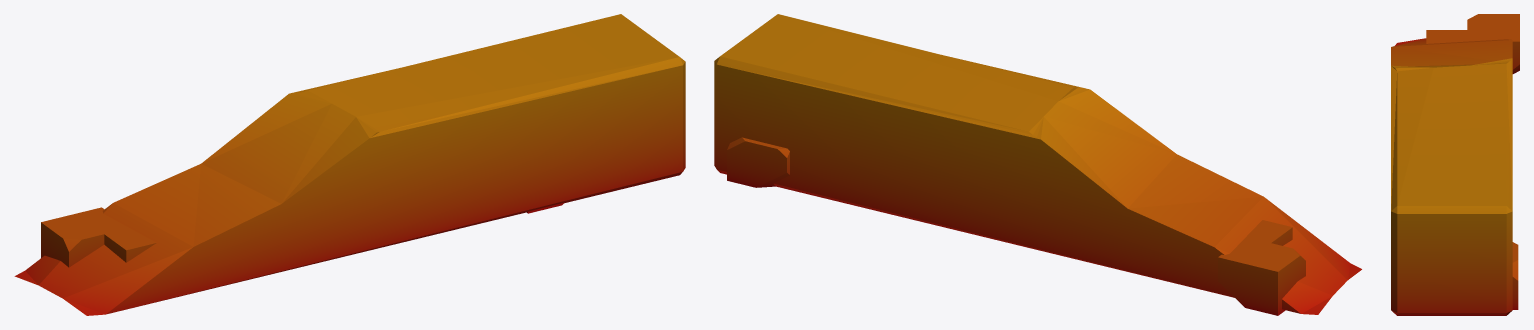
File: lintel_broken.glb
The picture shows the model from 3 angles, left to right: view 1: azimuth 30°, elevation 25°; view 2: azimuth 150°, elevation 25°; view 3: azimuth 270°, elevation 25°; orthographic projection. The views are drawn at different scales.
Visible parts, largest first — view 1: lintel_broken; view 2: lintel_broken; view 3: lintel_broken.
Part boxes in pixels (x1=…): lintel_broken: x1=14, y1=14, x2=685, y2=315; lintel_broken: x1=714, y1=14, x2=1361, y2=315; lintel_broken: x1=1391, y1=14, x2=1519, y2=315.
Size of what is drawn, in the model's own units: 3.25 by 0.6 by 0.6355.
